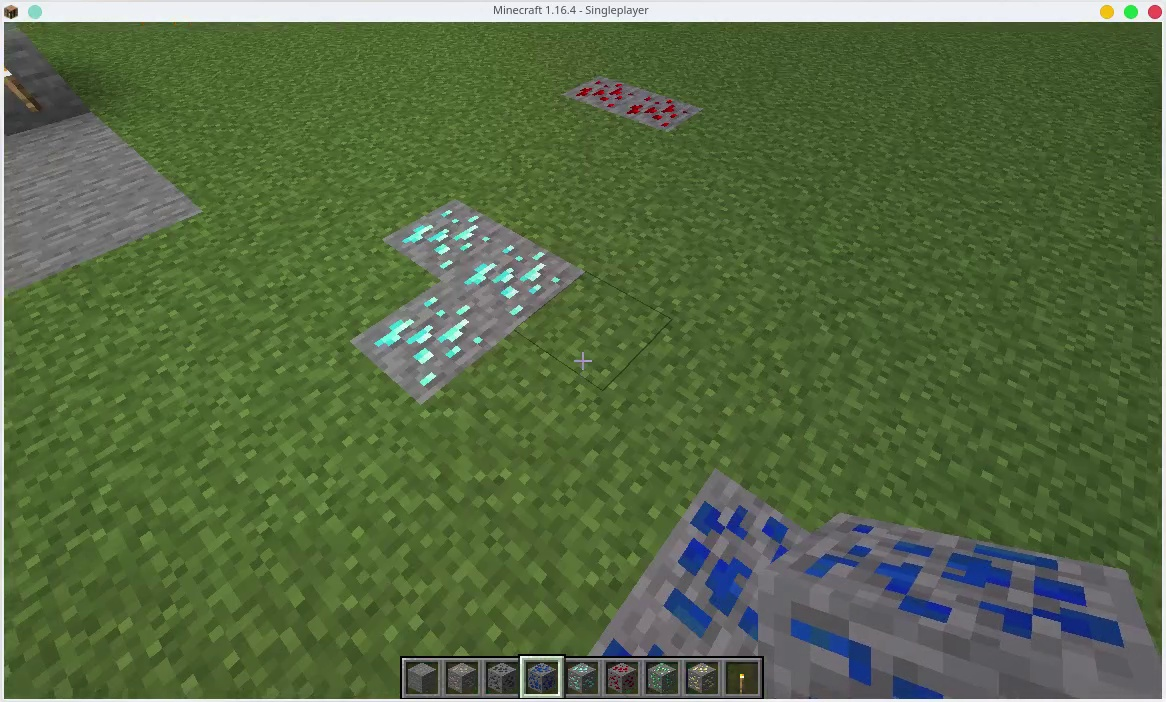gold: (687, 661, 720, 695)
